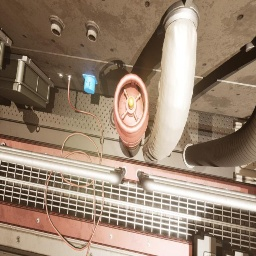NitrogenTank ,: (113, 73, 149, 152)
